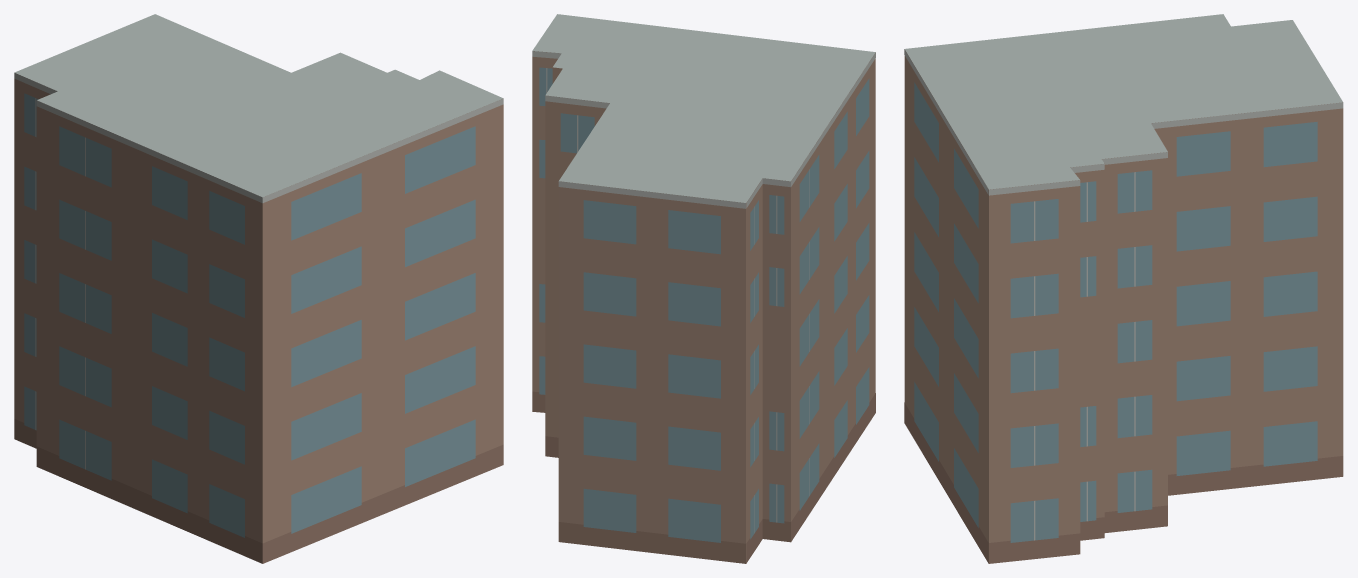
The model's file is survey-upis-32611068.glb.
3 renders of one model, left to right at view 1: azimuth 30°, elevation 25°; view 2: azimuth 150°, elevation 25°; view 3: azimuth 270°, elevation 25°, orthographic. The views are drawn at different scales.
Parts seen in each view (by area): view 1: survey-upis-32611068.tmp; view 2: survey-upis-32611068.tmp; view 3: survey-upis-32611068.tmp.
Part boxes in pixels (x1,y1,x2,y2): survey-upis-32611068.tmp: (14, 14, 503, 563); survey-upis-32611068.tmp: (532, 14, 875, 563); survey-upis-32611068.tmp: (904, 14, 1343, 563).
Size of the model in its own units: 15.2 by 15.1 by 16.05.
